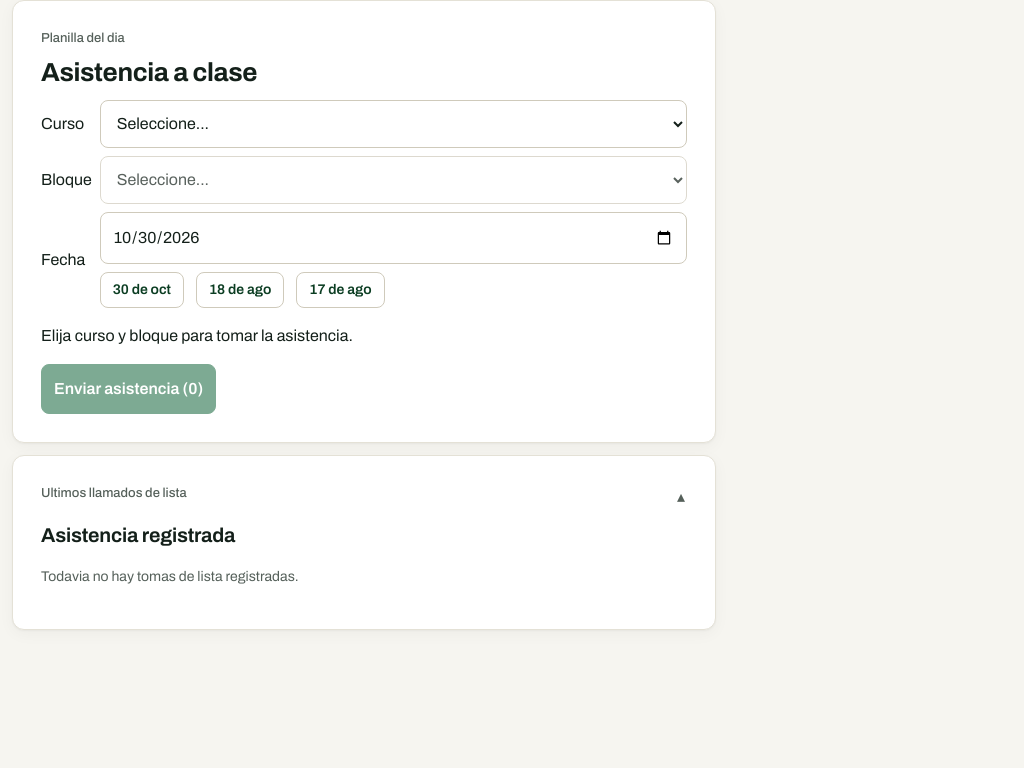
Scenario: TomarAsistencia › muestra marcada la casilla de bloque doble cuando el siguiente bloque es de la misma materia
expect the dropdown labelled "Curso" is shown: met, box [100,100,687,148]
Type "2026-08-17" into the date field labelled "Fecha" at (393, 238), box [100,212,687,264]
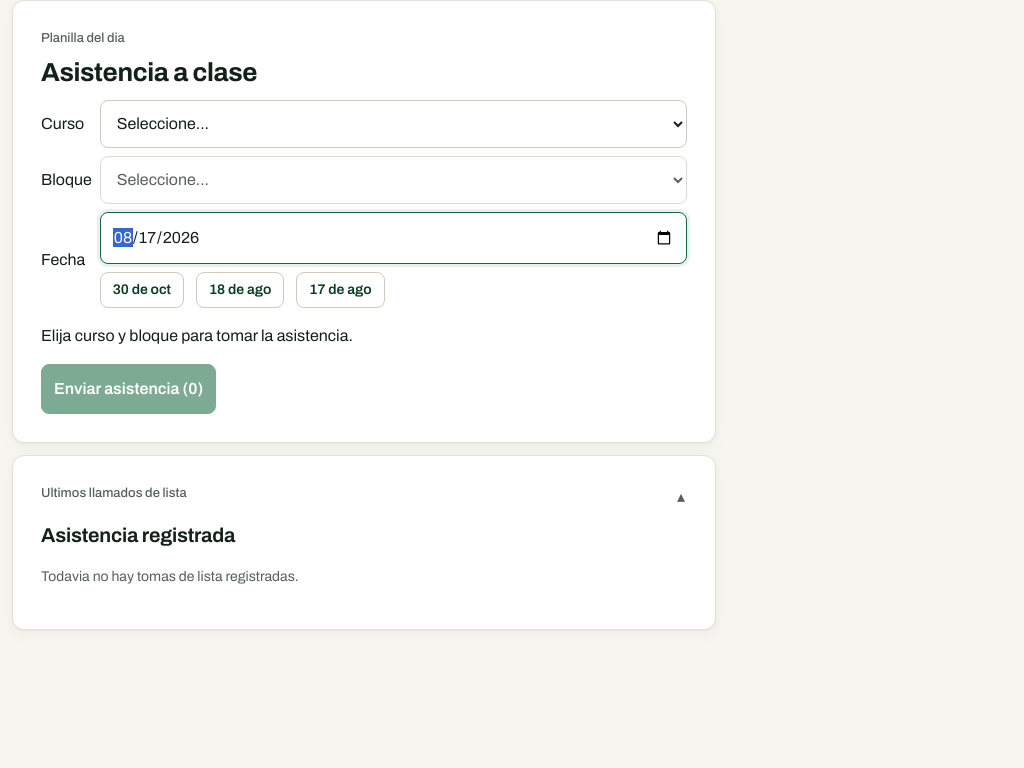
Select "601" in the dropdown labelled "Curso" at (393, 124), box [100,100,687,148]
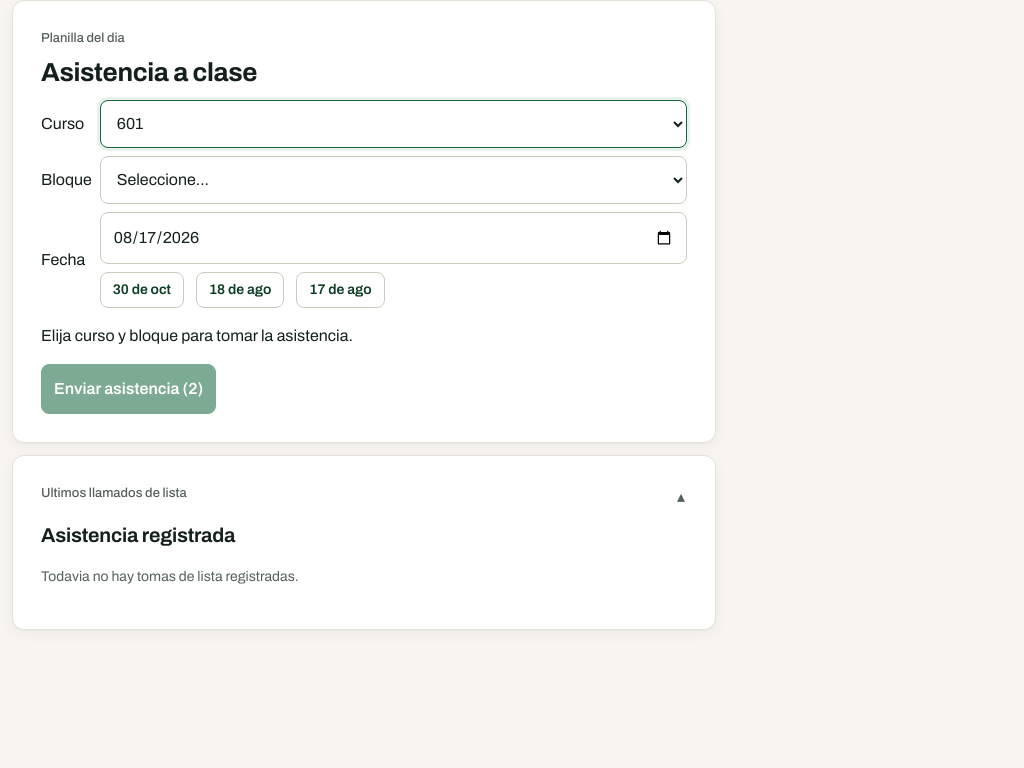
expect the dropdown labelled "Bloque" is enabled: met
Select "4. Ciencias (09:00) · Dia 1" in the dropdown labelled "Bloque" at (393, 180), box [100,156,687,204]
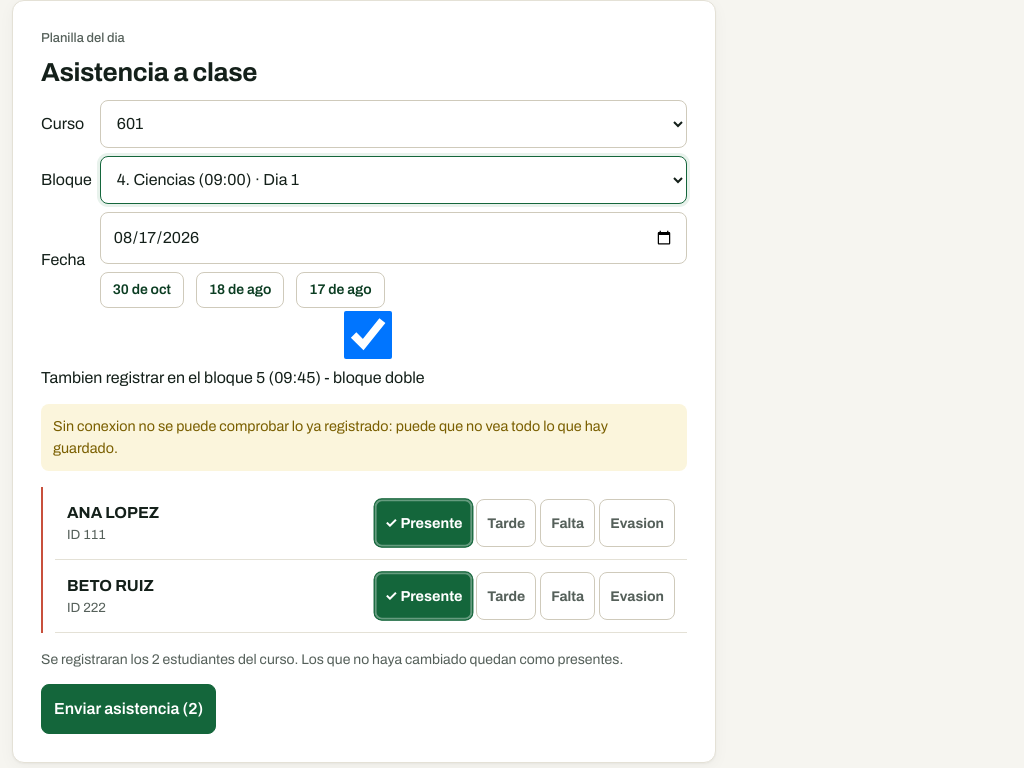
expect the text "ANA LOPEZ" is shown: met, box [67,504,159,521]
expect the checkbox labelled "Tambien registrar en el bloque 5 (09:45) - bloque doble" is checked: met, box [45,310,691,358]
